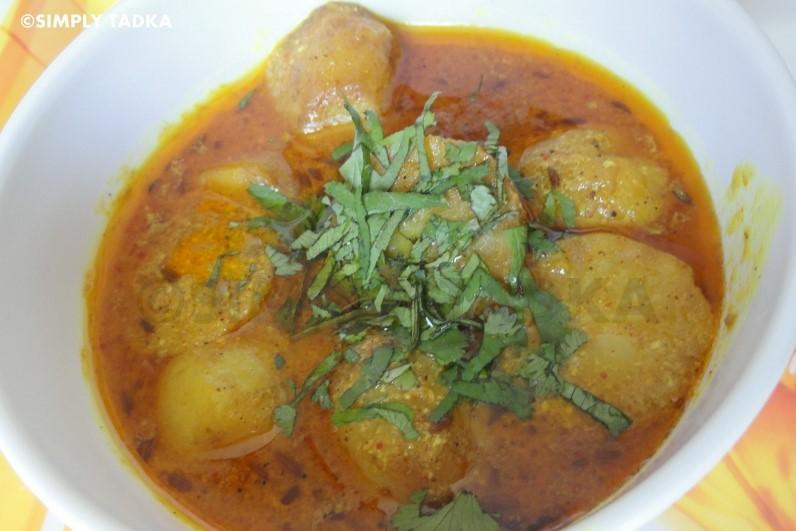DumAloo: (94, 0, 726, 531)
